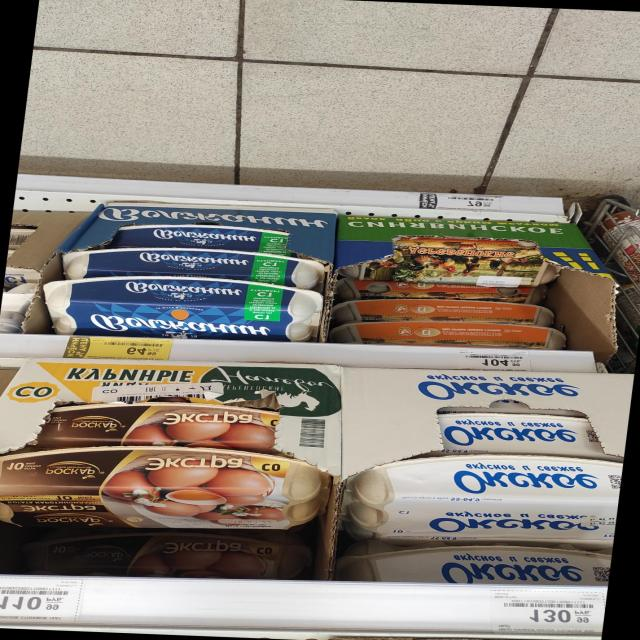organic waste: (0, 437, 334, 539), (348, 448, 623, 546), (22, 523, 316, 581), (339, 535, 612, 592), (34, 397, 280, 457), (434, 408, 604, 458)
